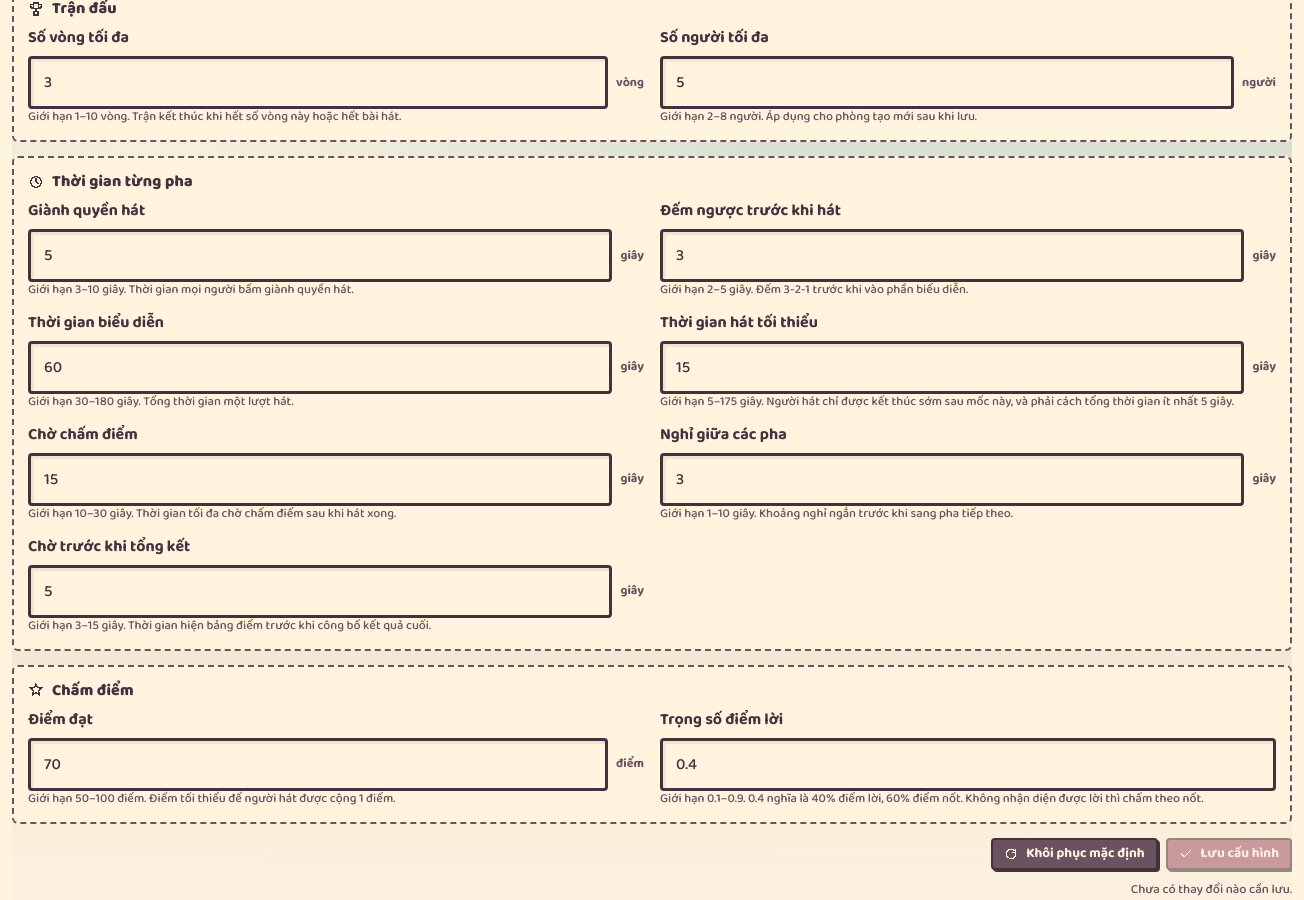
Test case: AdminGameConfigPanel › resets configuration after confirmation
(page scrolled)
Expected: the number field labelled "Số vòng tối đa" is shown, [28, 56, 608, 109]
Click the button "Khôi phục mặc định": (1074,854) [991, 838, 1158, 870]
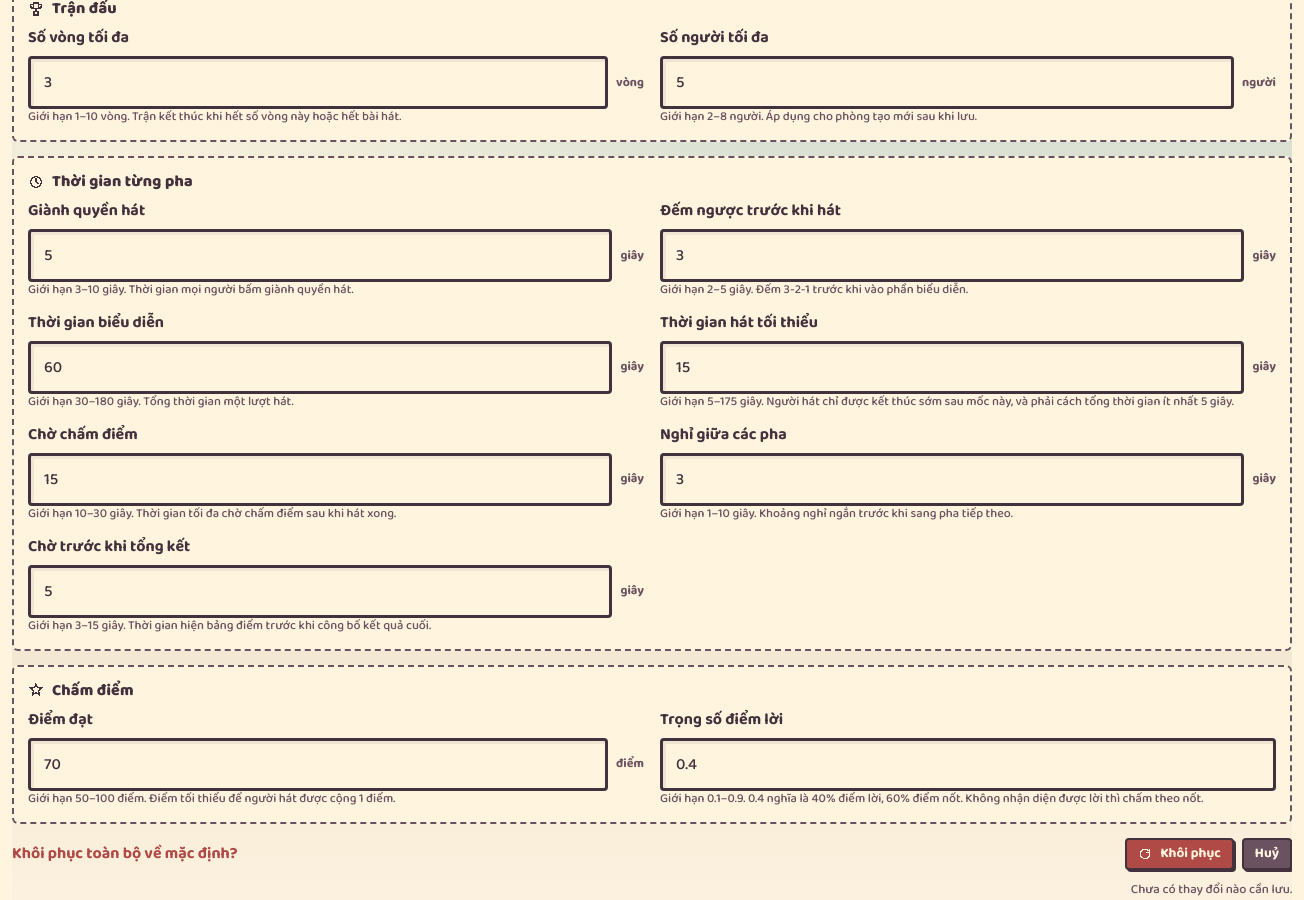
Click the button "Khôi phục": (1180,854) [1125, 838, 1234, 870]
(page scrolled)
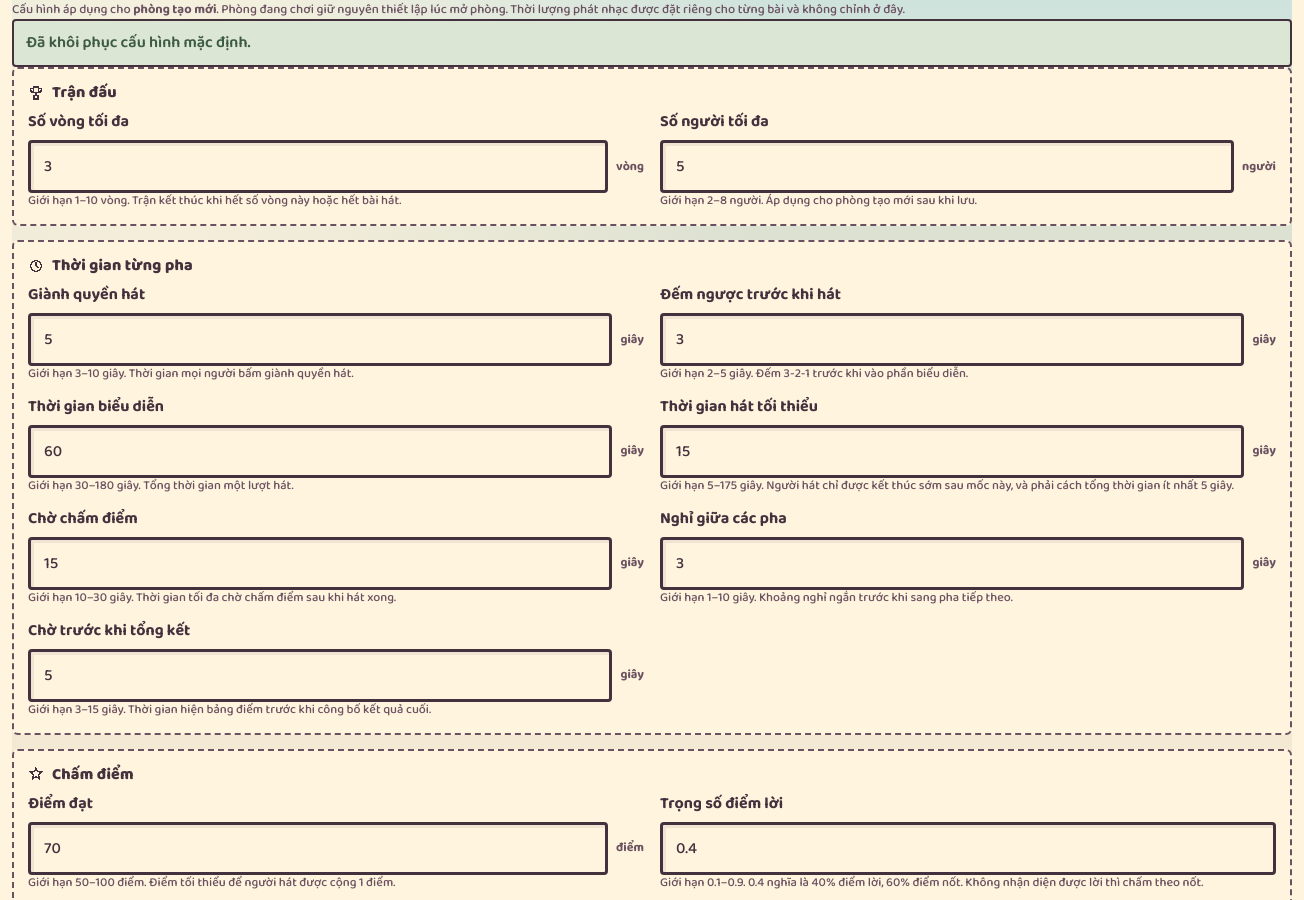
Result: the text "Đã khôi phục cấu hình mặc định." is shown at [12, 19, 1292, 67]
